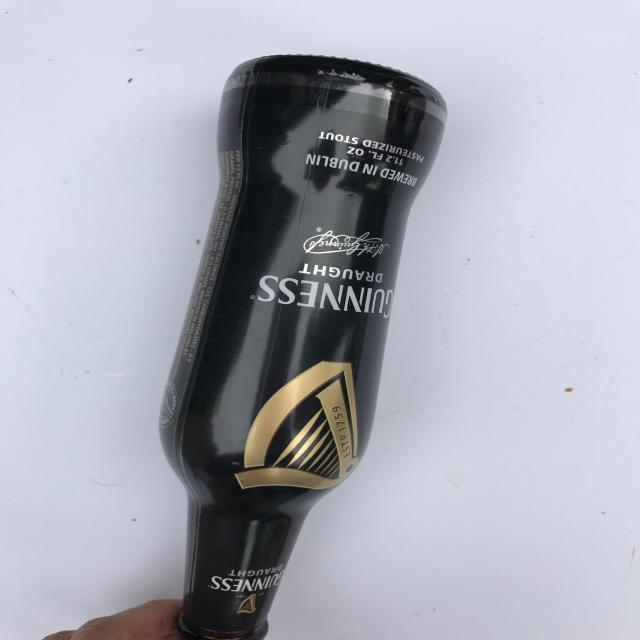glass: (154, 51, 450, 640)
